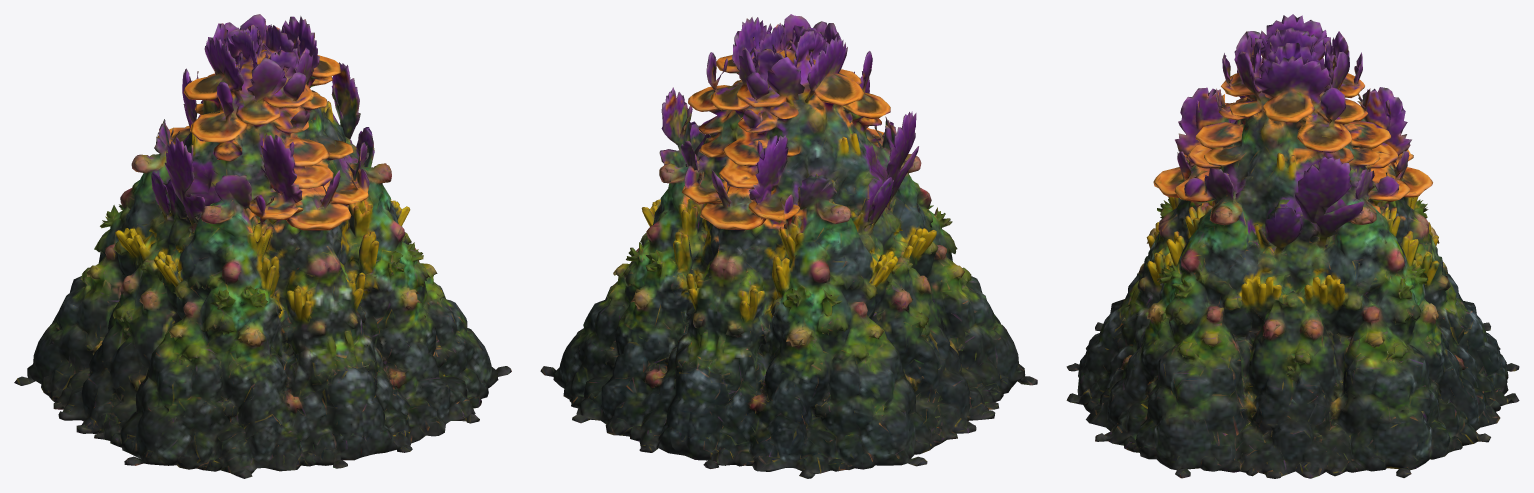
File: coral-bommie.glb
3 renders of one model, left to right at view 1: azimuth 30°, elevation 25°; view 2: azimuth 150°, elevation 25°; view 3: azimuth 270°, elevation 25°, orthographic.
Parts seen in each view (by area): view 1: Mesh1.0; view 2: Mesh1.0; view 3: Mesh1.0.
Part boxes in pixels (box(x1,y1,x2,y2)): Mesh1.0: box(14, 14, 511, 478); Mesh1.0: box(540, 14, 1037, 478); Mesh1.0: box(1066, 14, 1519, 478).
Bounding box in the file's own units: 1.86 × 1.6 × 1.87.
Materials: 1 (1 with a texture image).
